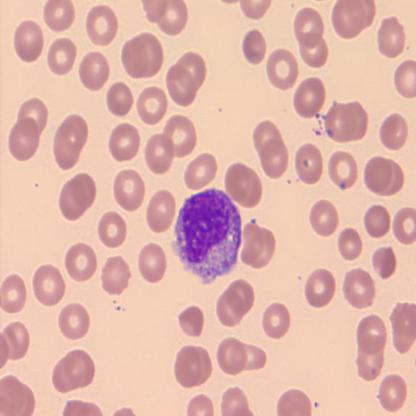Metamyelocyte: (168, 185, 244, 288)
